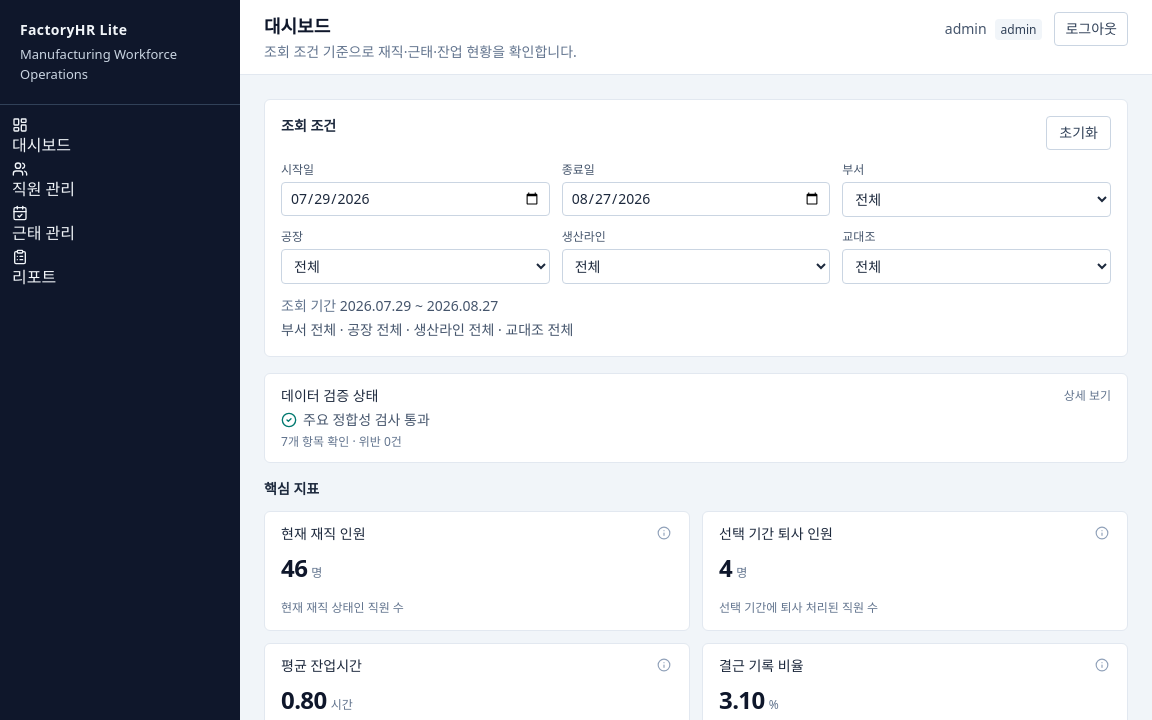
Test: DashboardPage › renders KPI cards from the API
Check: the text "현재 재직 인원" is shown, box [281,524,366,544]
Check: the text "46" is shown, box [281,552,307,584]
Click the button named "지표 정의" in the row of "현재 재직 인원". click: (664,533)
box: [655,524,673,542]
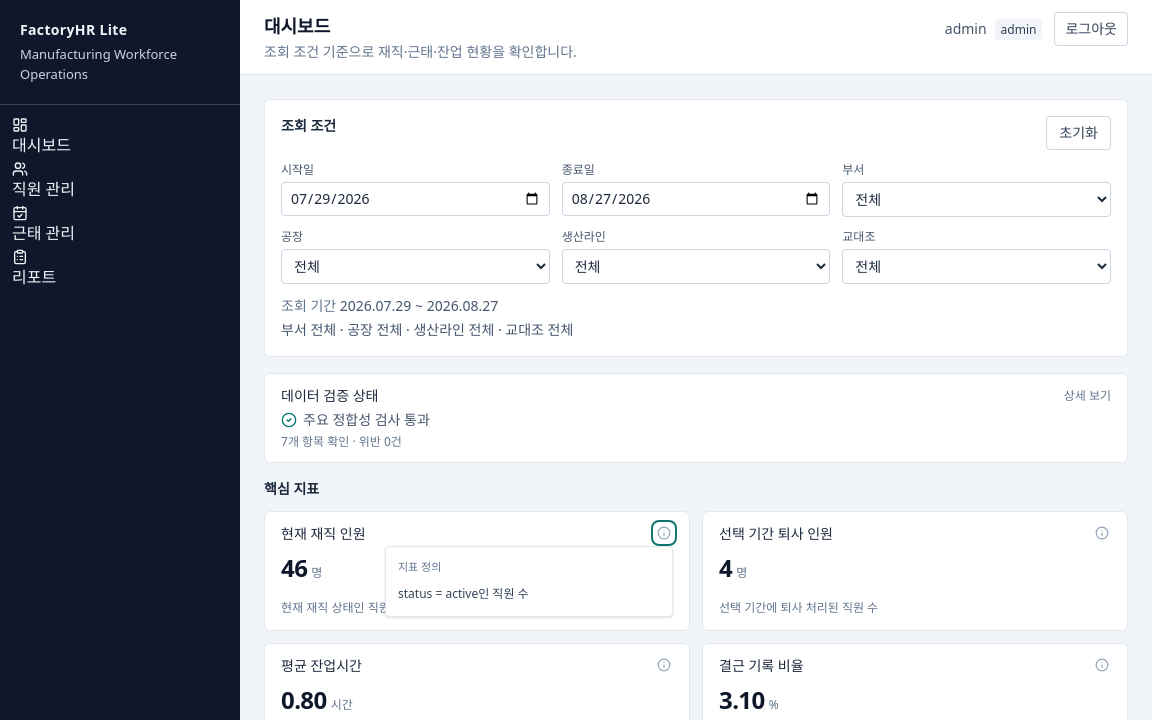
Check: the text "status = active인 직원 수" is shown, box [398,584,529,602]
